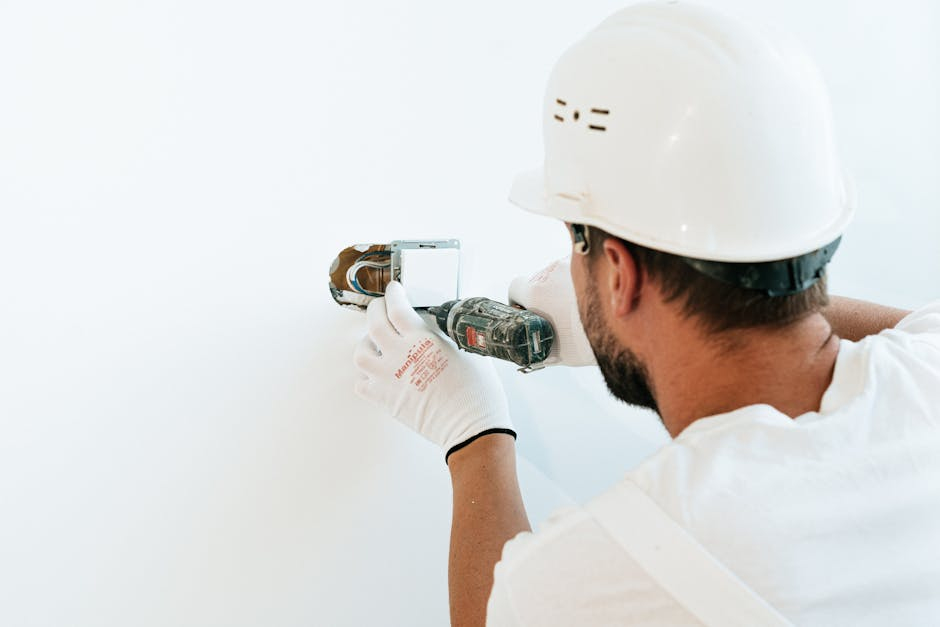safety_helmet: (507, 0, 855, 291)
